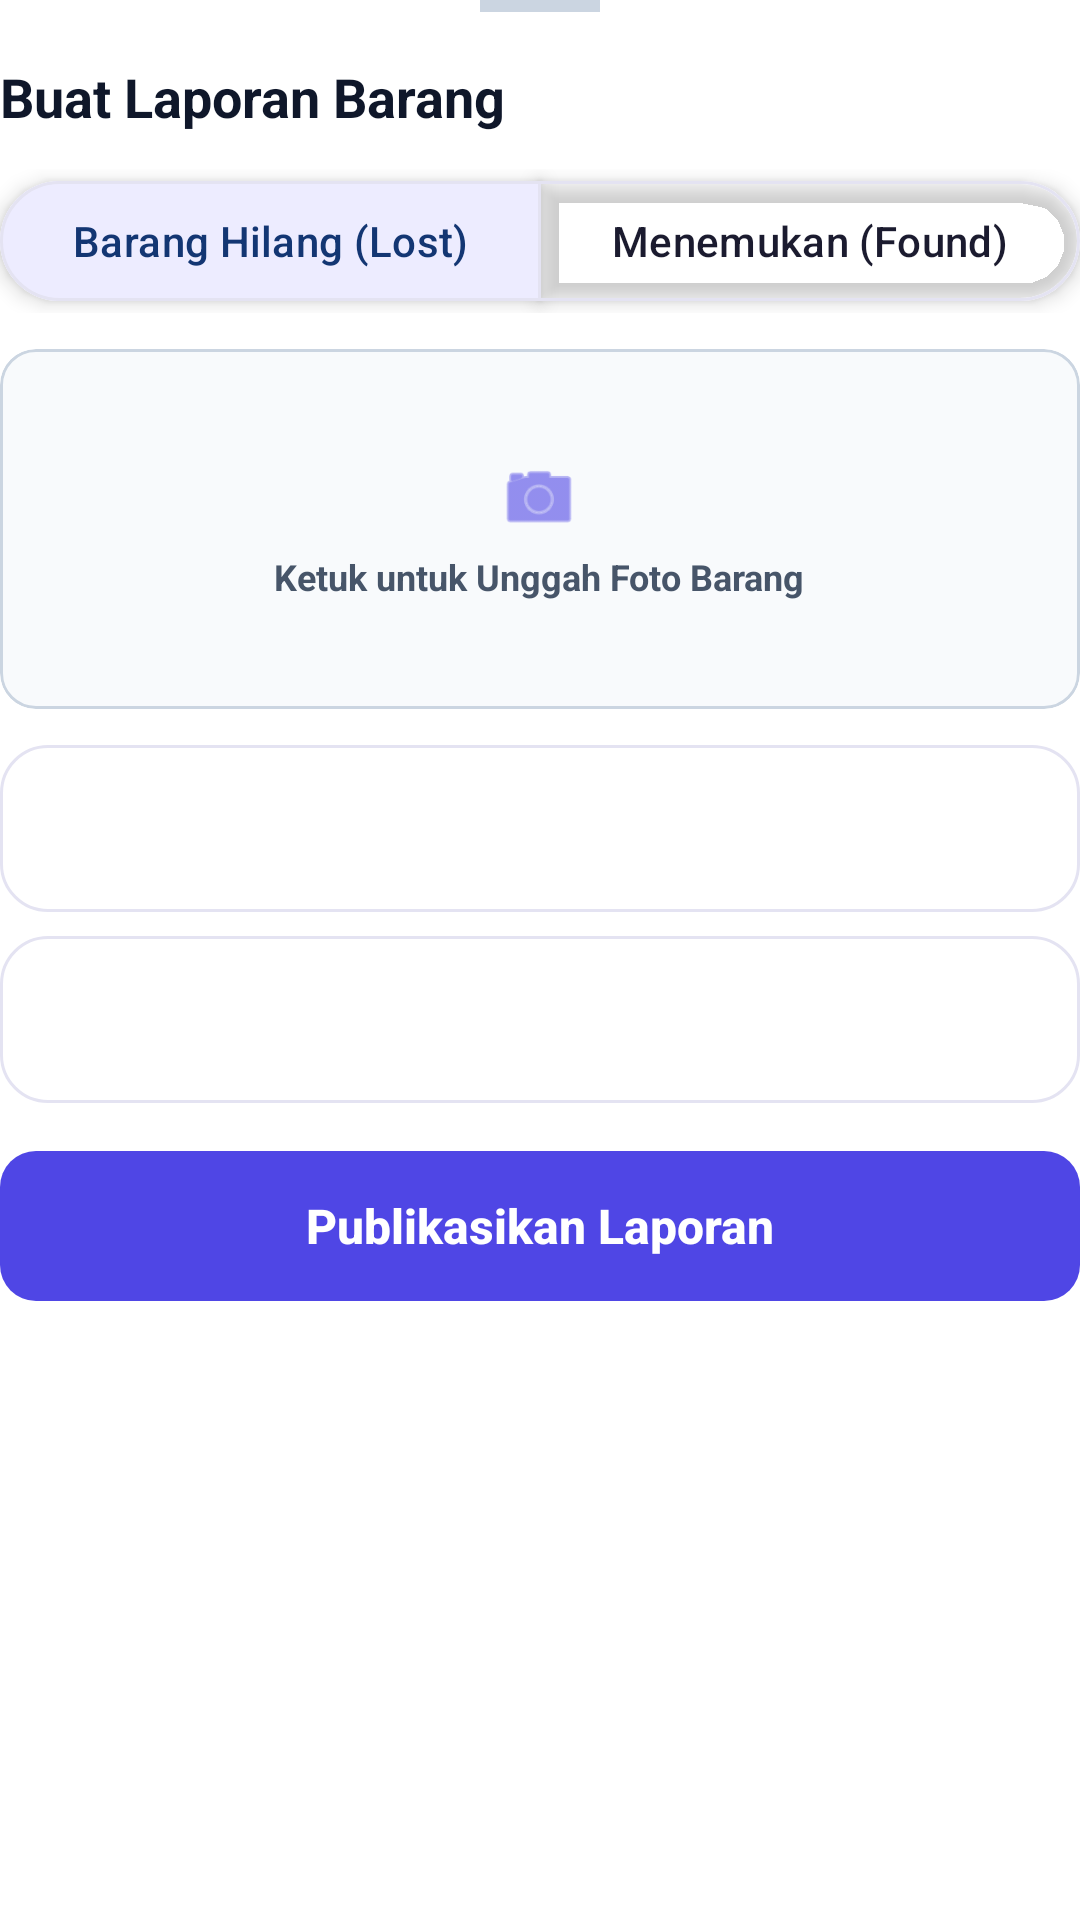

Point at icon controls on the screen. Image size 1080px x 1920px, points as (x=x, y=y).
Kamera: (x=539, y=496)
